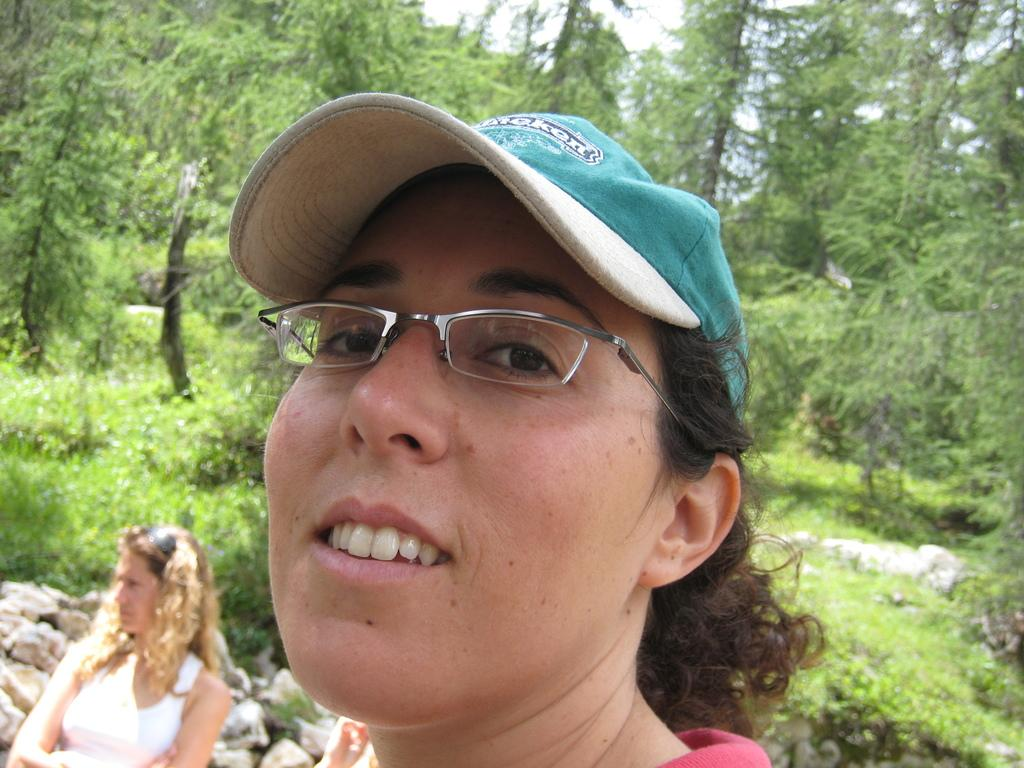Hat: (218, 63, 752, 459)
